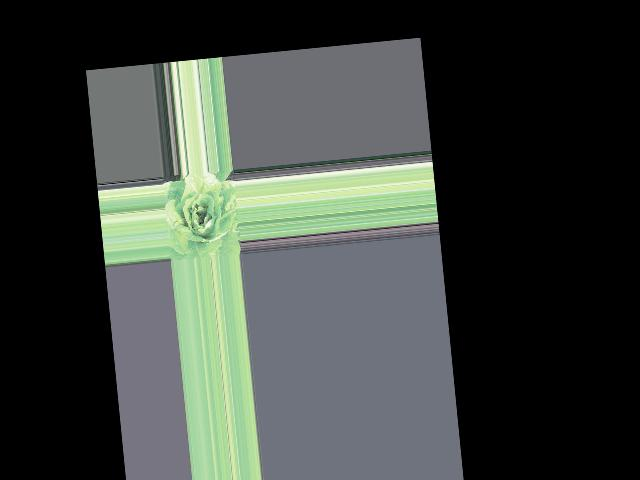lettuce: (164, 173, 242, 259)
